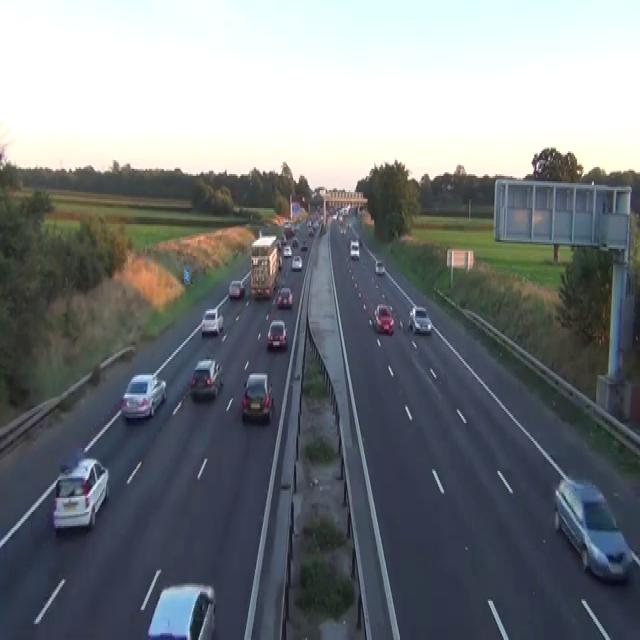Car: (553, 477, 633, 583), (52, 455, 109, 532), (147, 582, 216, 638), (120, 372, 167, 419), (241, 372, 274, 423), (189, 358, 223, 398), (371, 304, 394, 334), (408, 306, 432, 334), (266, 318, 287, 348), (201, 308, 223, 336), (276, 286, 293, 308), (228, 279, 244, 299), (254, 286, 271, 299), (349, 238, 359, 260), (240, 268, 250, 288), (291, 254, 302, 270), (283, 222, 293, 235), (375, 260, 384, 274), (283, 244, 292, 256), (291, 237, 298, 247), (446, 182, 454, 190), (300, 240, 307, 249), (233, 204, 240, 213), (280, 233, 286, 243), (283, 220, 290, 228), (278, 254, 282, 268), (321, 222, 326, 233), (308, 228, 314, 236), (340, 226, 346, 234), (441, 183, 446, 190), (307, 218, 311, 226), (332, 212, 337, 218)
Truck: (249, 233, 280, 299)
